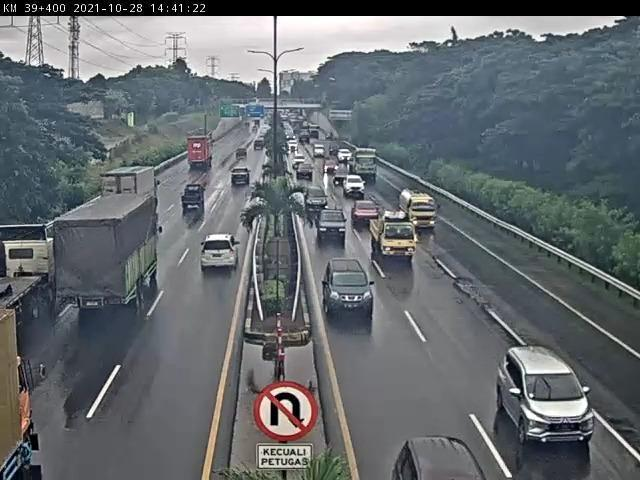car: (497, 345, 598, 446), (323, 259, 375, 321), (200, 233, 240, 271), (316, 209, 348, 241), (353, 200, 382, 227), (181, 184, 206, 211), (304, 187, 330, 212), (344, 176, 367, 198)
truck: (52, 197, 163, 310), (100, 166, 163, 216), (370, 211, 418, 263), (399, 188, 440, 231)
